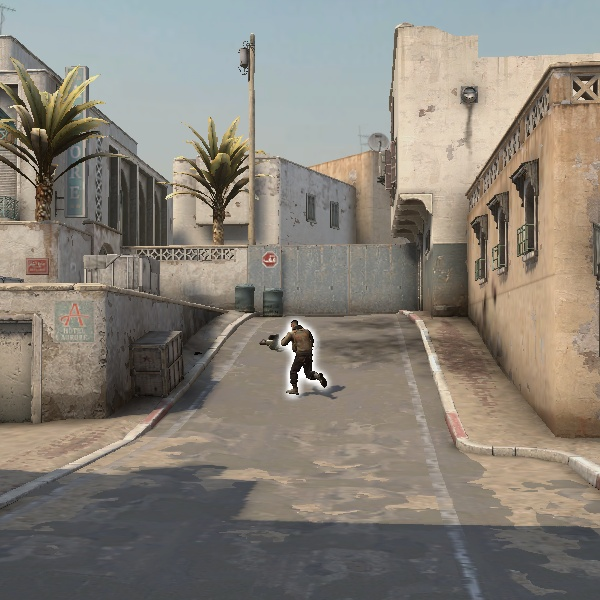t_body: (276, 316, 322, 393)
t_head: (287, 315, 305, 332)
